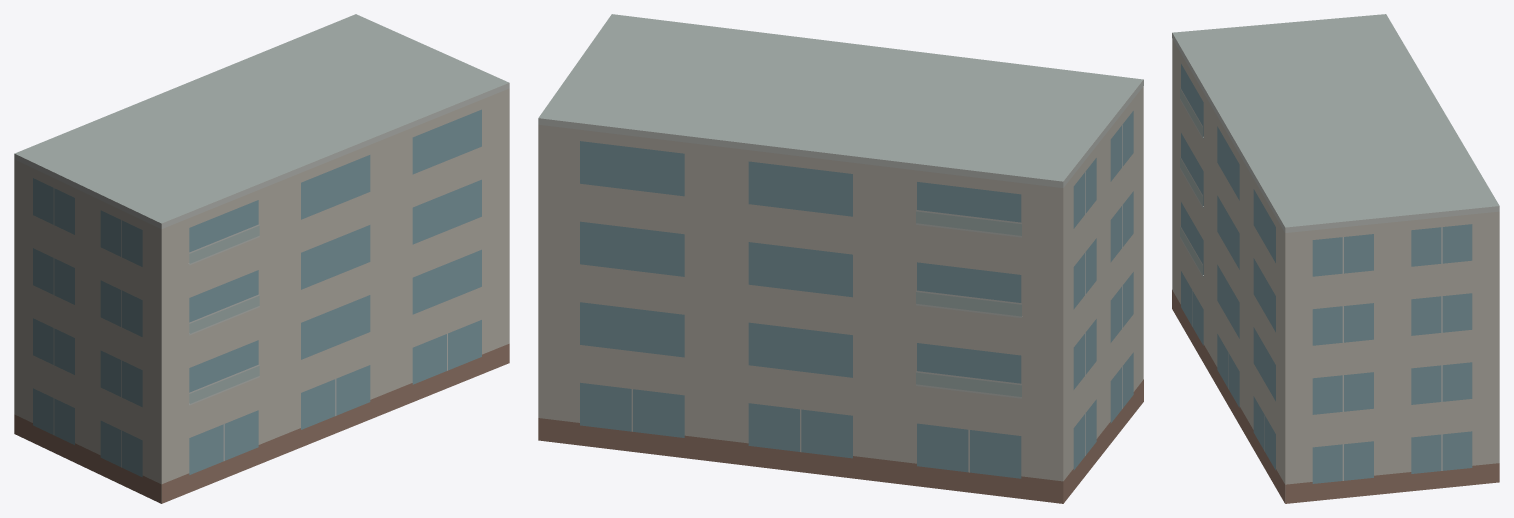
File: survey-upis-32936103.glb
The picture shows the model from 3 angles, left to right: view 1: azimuth 30°, elevation 25°; view 2: azimuth 150°, elevation 25°; view 3: azimuth 270°, elevation 25°; orthographic projection. The views are drawn at different scales.
Visible parts, largest first — view 1: survey-upis-32936103.tmp; view 2: survey-upis-32936103.tmp; view 3: survey-upis-32936103.tmp.
Part boxes in pixels (x1,y1,x2,y2): survey-upis-32936103.tmp: (14,14,509,503); survey-upis-32936103.tmp: (538,14,1143,503); survey-upis-32936103.tmp: (1172,14,1499,503).
Bounding box in the file's own units: 20.06 × 12.1 × 13.01.
